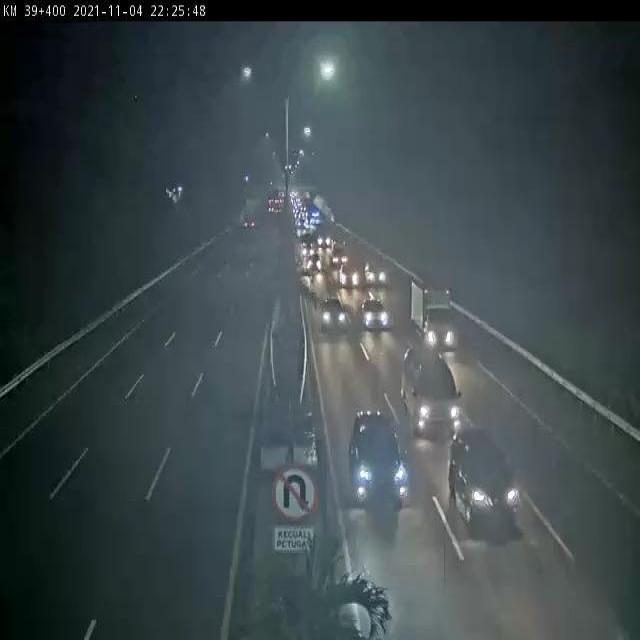car: (443, 432, 524, 543), (348, 407, 413, 516), (401, 348, 464, 432), (359, 295, 397, 345), (315, 296, 353, 343), (336, 254, 362, 294), (365, 253, 390, 291), (305, 249, 326, 280)
truck-s-: (411, 272, 465, 361)
